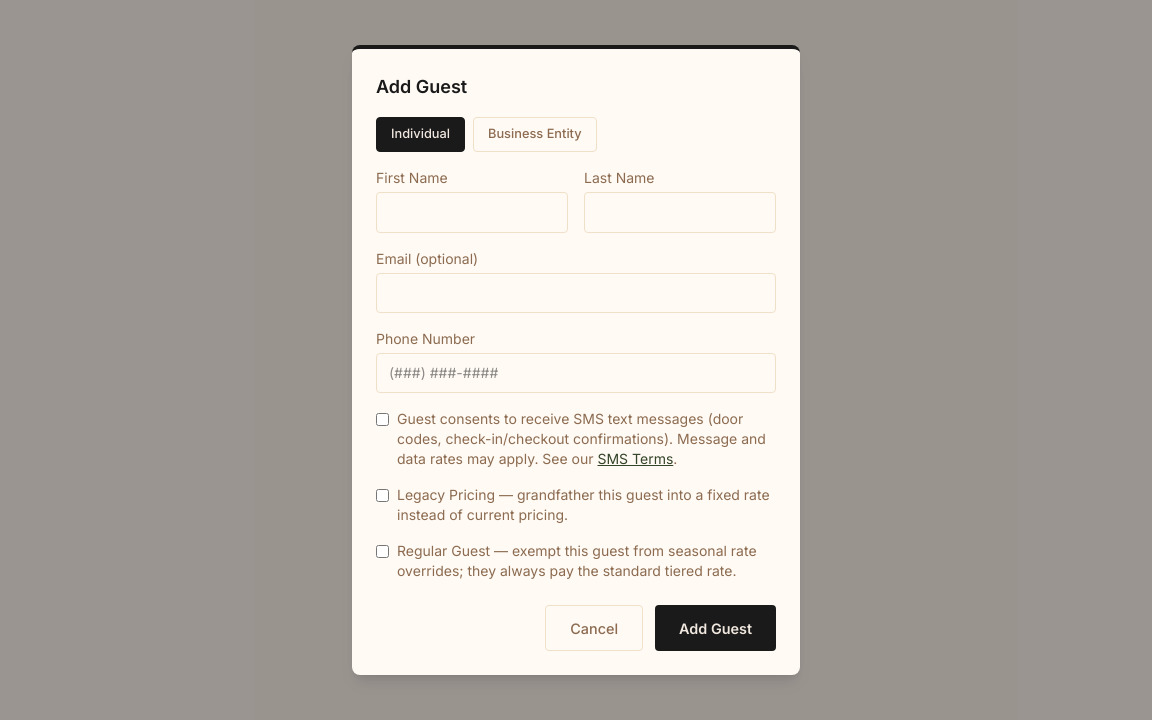
Scenario: GuestEditModal - new guest › shows a field-validation message on a 400
Type "Sam" into the field named "firstName" below "First Name" at (472,212), box [376,192,568,232]
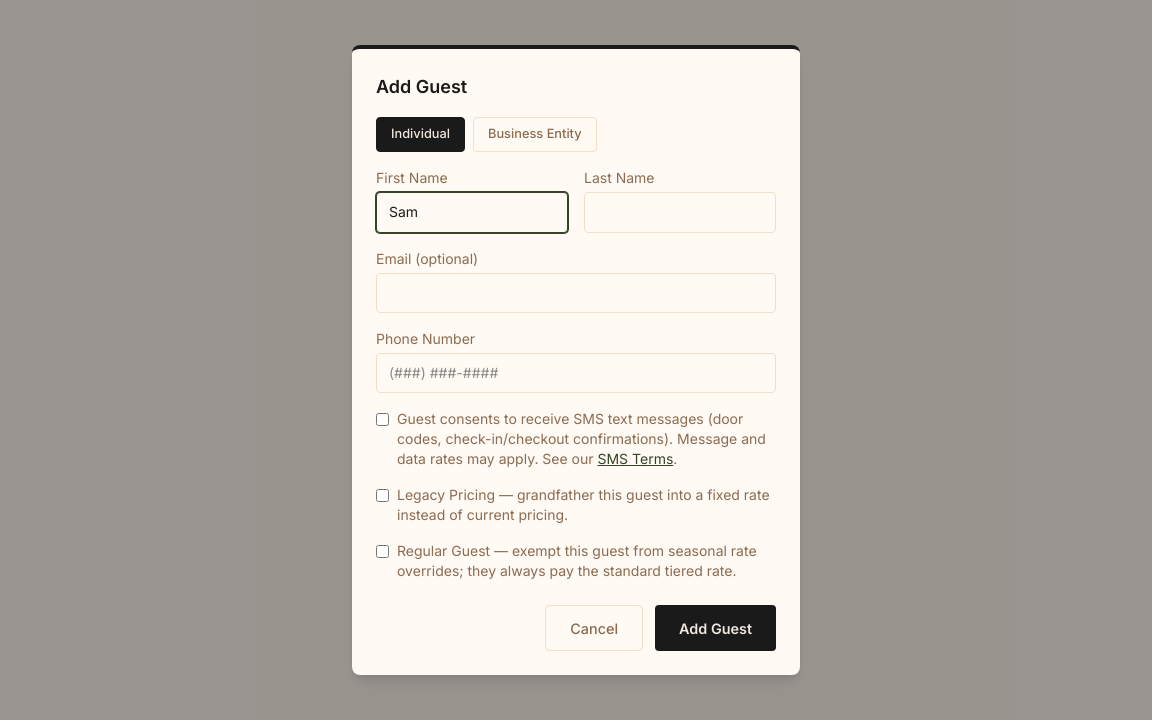
Type "Doe" into the field named "lastName" below "Last Name" at (680,212), box [584,192,776,232]
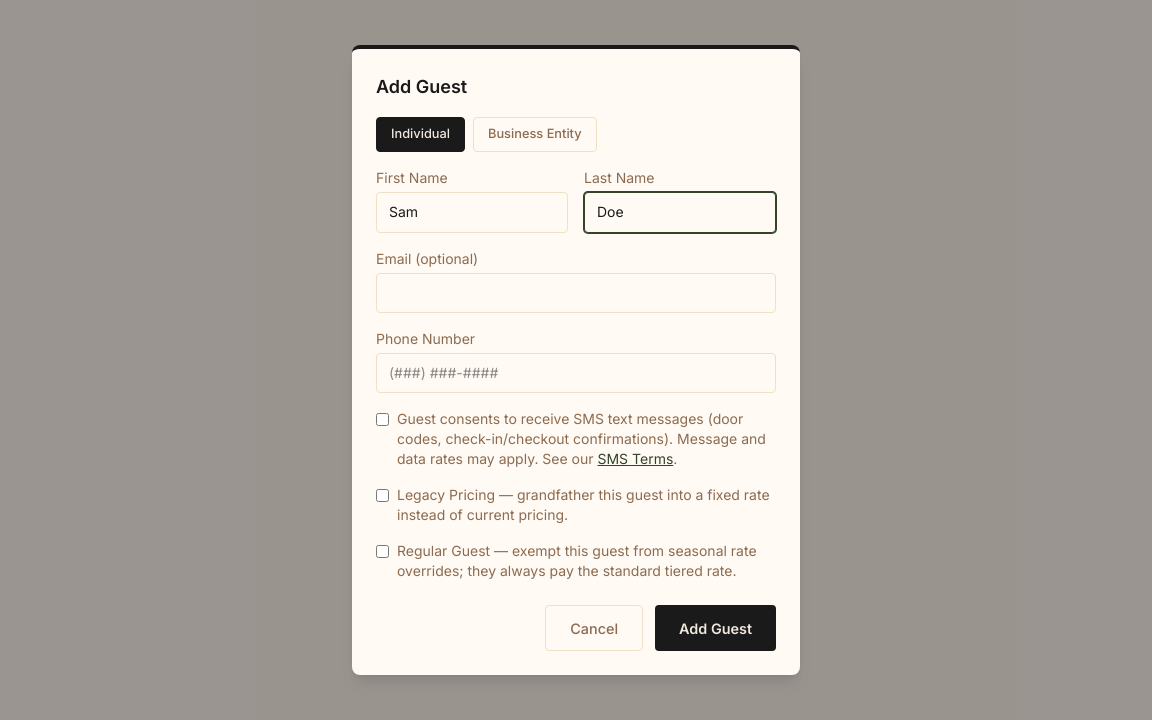
Type "5551234567" into the field named "phoneNumber" at (576,373), box [376,353,776,393]
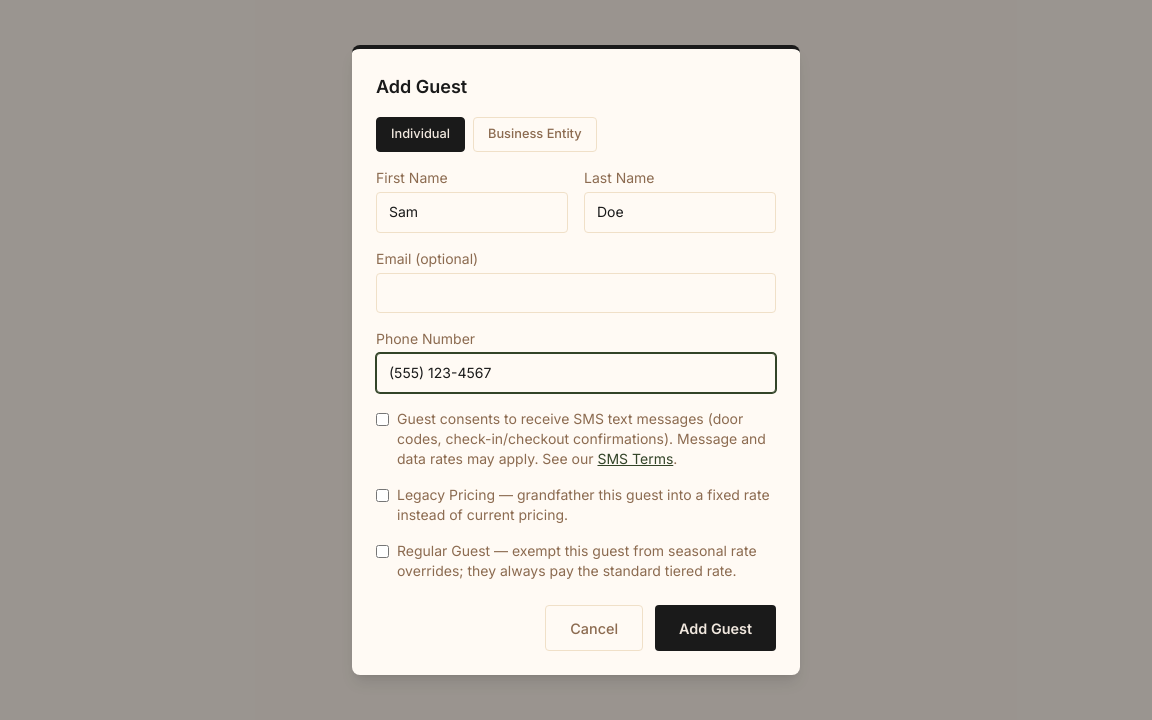
Click the button "Add Guest" at (716,628), box [655,605,776,651]
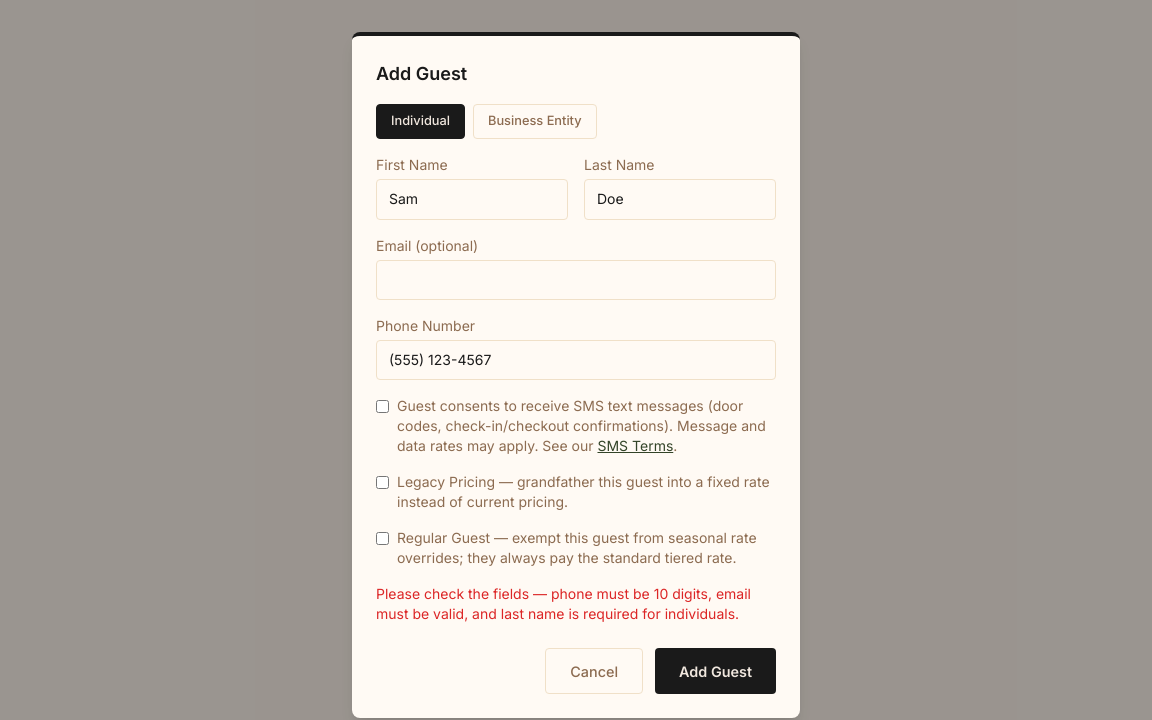
Result: the text "phone must be 10 digits" is shown at [376,585,751,622]
